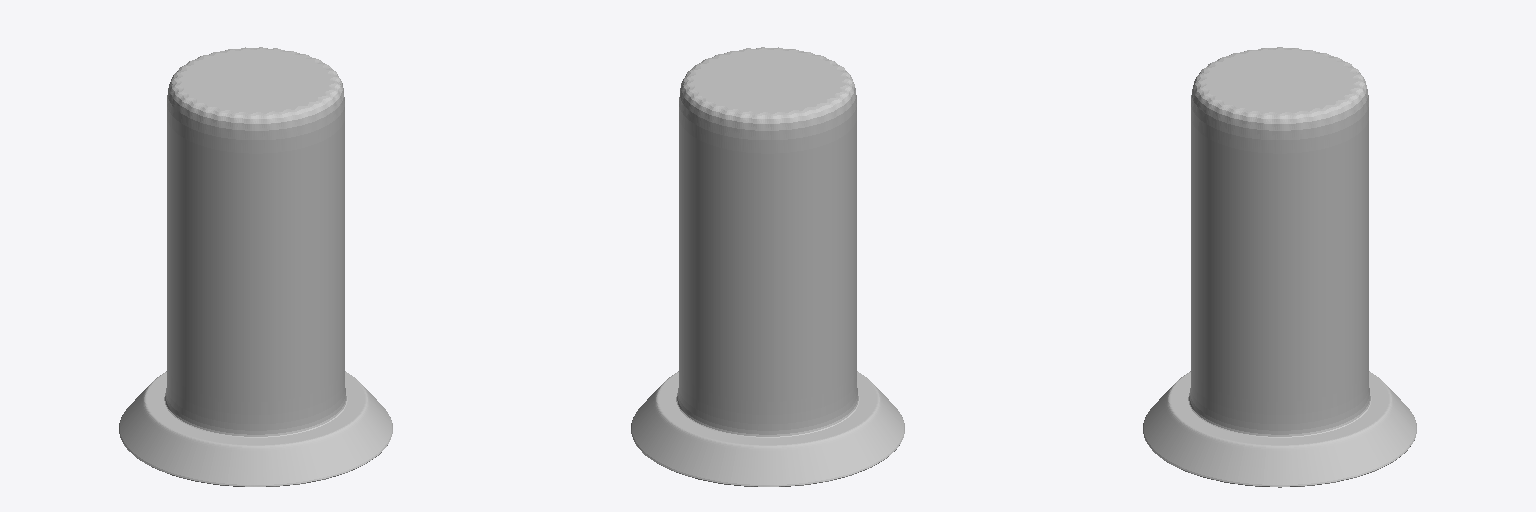
The model's file is bird_bl.obj.
3 renders of one model, left to right at view 1: azimuth 30°, elevation 25°; view 2: azimuth 150°, elevation 25°; view 3: azimuth 270°, elevation 25°, orthographic.
Size of the model in its own units: 3.91 by 5.5 by 3.91.